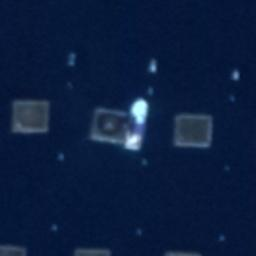square_cover: (84, 103, 135, 150), (169, 107, 216, 150), (8, 97, 52, 138)
